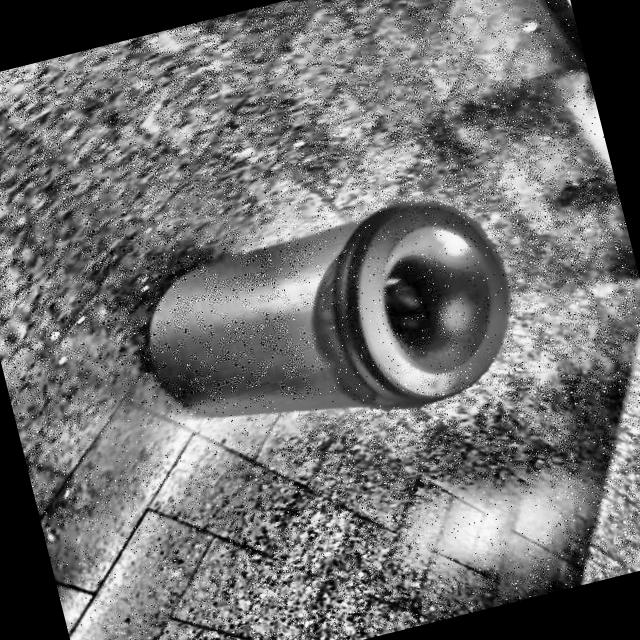Dustbin: (112, 165, 552, 479)
